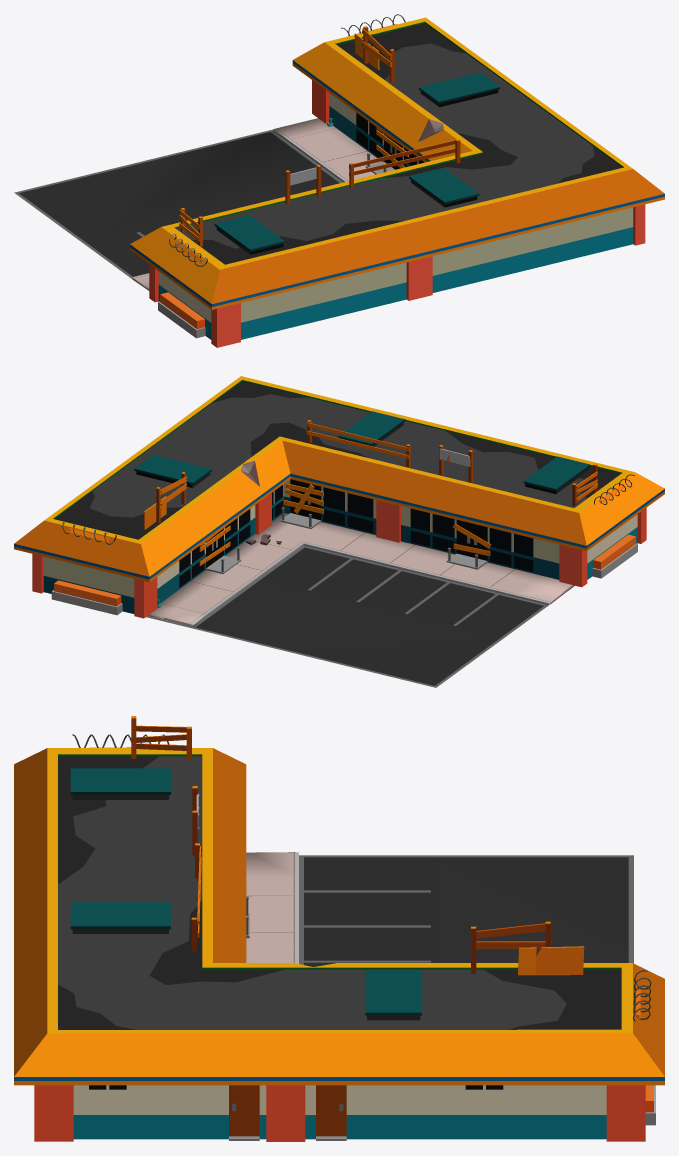
The model's file is Mall.fbx.
3 renders of one model, top to bottom at view 1: azimuth 30°, elevation 25°; view 2: azimuth 150°, elevation 25°; view 3: azimuth 270°, elevation 25°, orthographic. The views are drawn at different scales.
Parts seen in each view (by area): view 1: SA_Bld_Mall_Damaged_01, SA_Bld_Mall_Carpark_01, SA_Bld_Mall_Extras_01; view 2: SA_Bld_Mall_Damaged_01, SA_Bld_Mall_Carpark_01, SA_Bld_Mall_Extras_01; view 3: SA_Bld_Mall_Damaged_01, SA_Bld_Mall_Carpark_01, SA_Bld_Mall_Extras_01.
Boxes of the visible parts, x1,y1,x2,y2 form: SA_Bld_Mall_Damaged_01: (130,17,664,347); SA_Bld_Mall_Carpark_01: (14,118,381,290); SA_Bld_Mall_Extras_01: (169,14,460,266); SA_Bld_Mall_Damaged_01: (14,376,664,618); SA_Bld_Mall_Carpark_01: (146,513,576,687); SA_Bld_Mall_Extras_01: (62,420,634,565); SA_Bld_Mall_Damaged_01: (14,748,664,1141); SA_Bld_Mall_Carpark_01: (246,852,633,966); SA_Bld_Mall_Extras_01: (72,716,651,1021).
Bounding box in the file's own units: 269 × 63.31 × 237.
